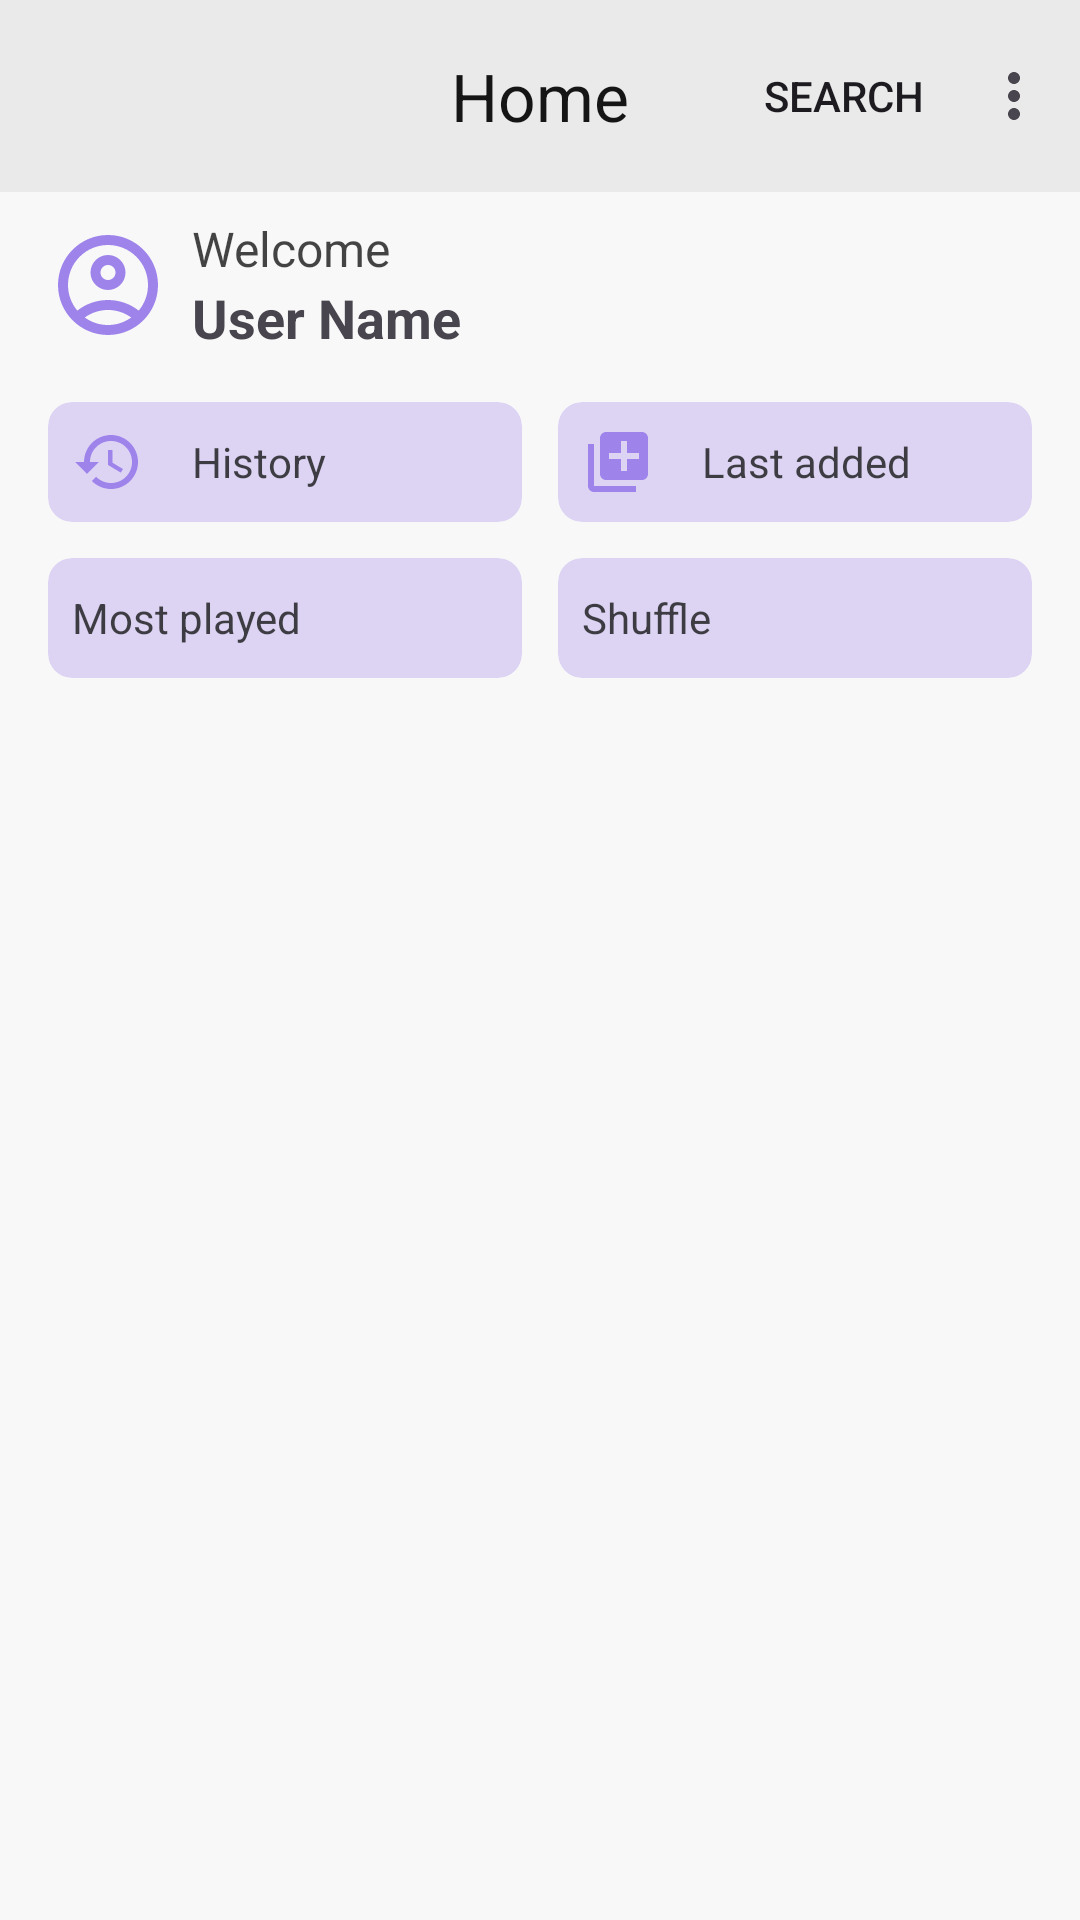

Locate icon controls on the screen. Image size 1080*1920, boxes as (x1, y1, x2, y2).
account: (58, 235, 158, 335)
